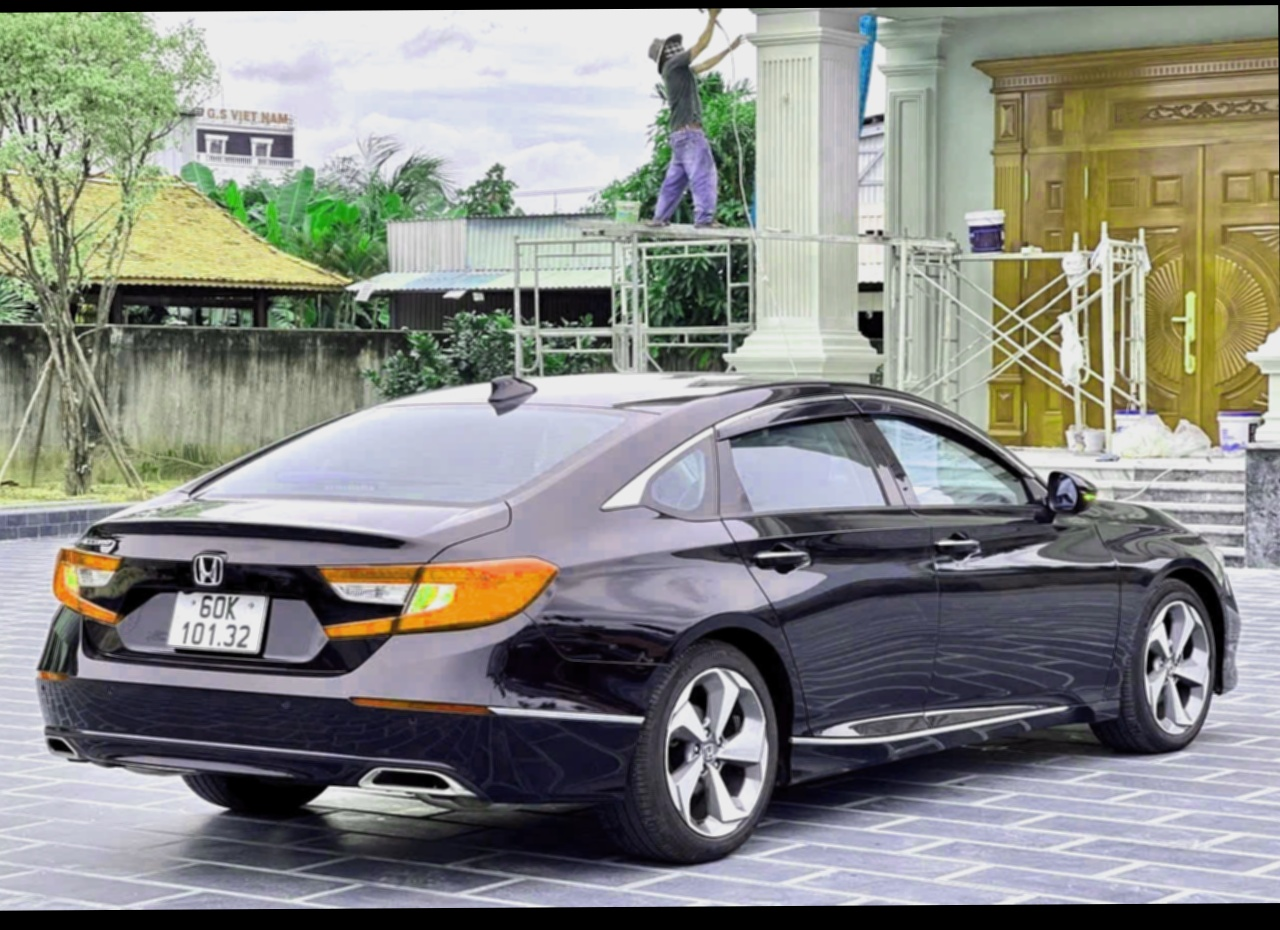Bien-so: (158, 588, 265, 654)
